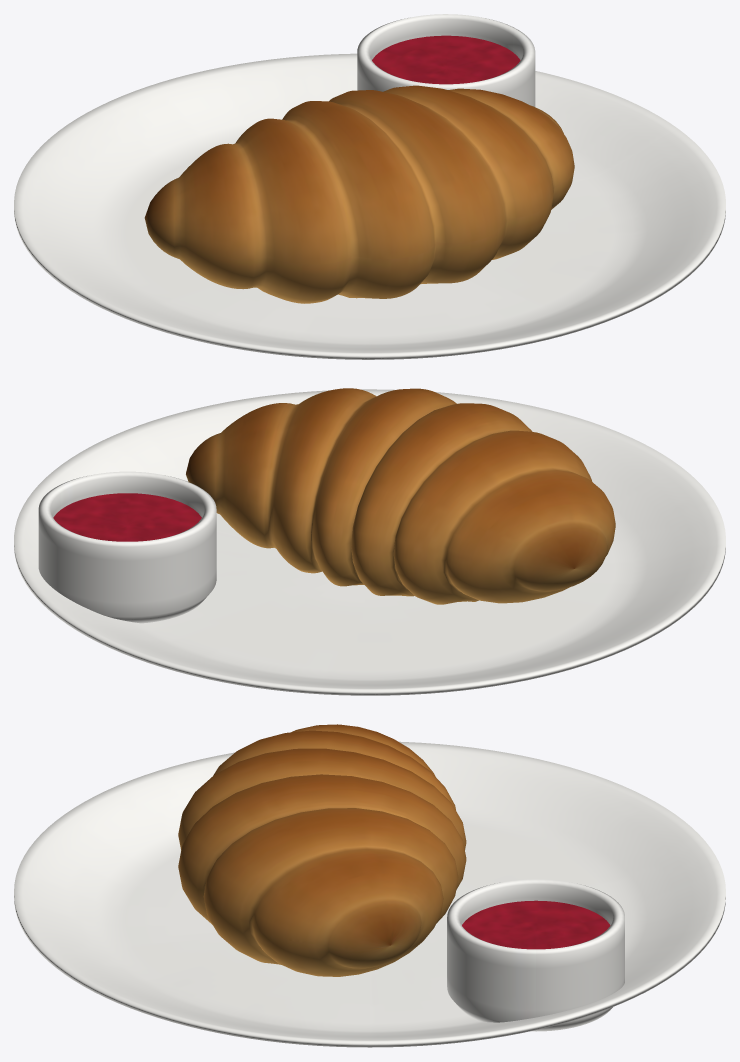
The model's file is classic-croissant.glb.
3 renders of one model, top to bottom at view 1: azimuth 30°, elevation 25°; view 2: azimuth 150°, elevation 25°; view 3: azimuth 270°, elevation 25°, orthographic.
Visible parts, largest first — view 1: ceramic, glaze, sauce; view 2: ceramic, glaze, sauce; view 3: ceramic, glaze, sauce.
Part boxes in pixels (left/top/right/bottom): ceramic: left=14, top=14, right=725, bottom=359; glaze: left=144, top=85, right=574, bottom=303; sauce: left=372, top=35, right=520, bottom=84; ceramic: left=14, top=389, right=725, bottom=695; glaze: left=186, top=388, right=615, bottom=604; sauce: left=53, top=493, right=201, bottom=541; ceramic: left=14, top=741, right=725, bottom=1047; glaze: left=178, top=724, right=466, bottom=976; sauce: left=462, top=900, right=610, bottom=949.
Size of the model in its own units: 0.24 by 0.0595 by 0.24.
3 materials, 3 textured.
